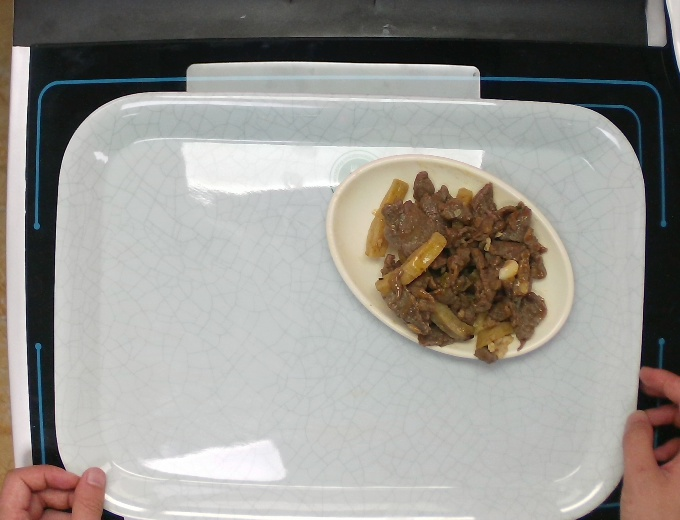JYsf-Tuo_Yuan_Wan: (322, 148, 578, 365)
